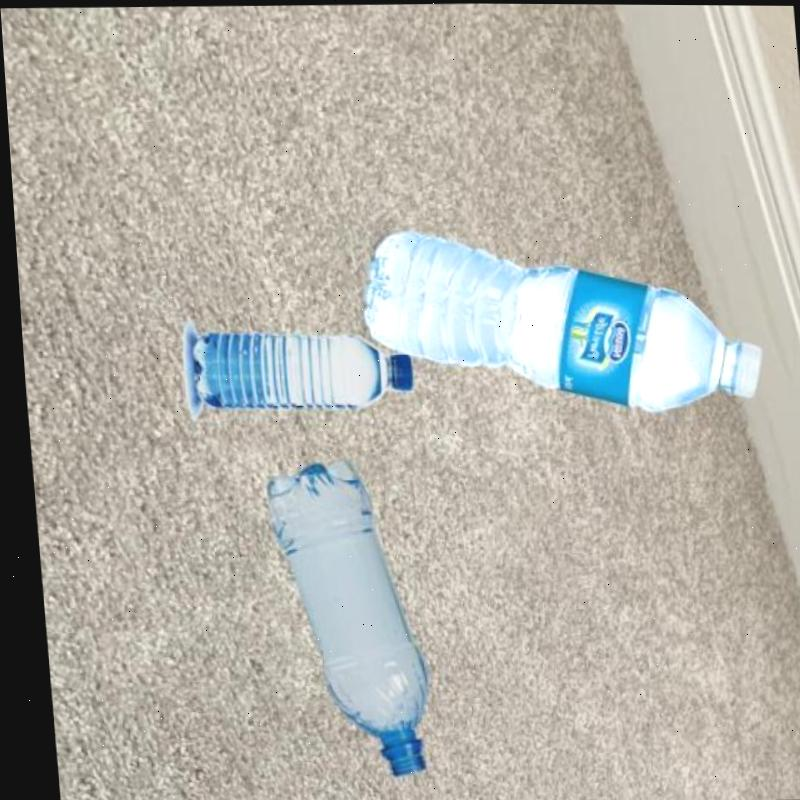botella: (353, 222, 765, 414), (255, 455, 418, 774), (185, 328, 413, 414)
